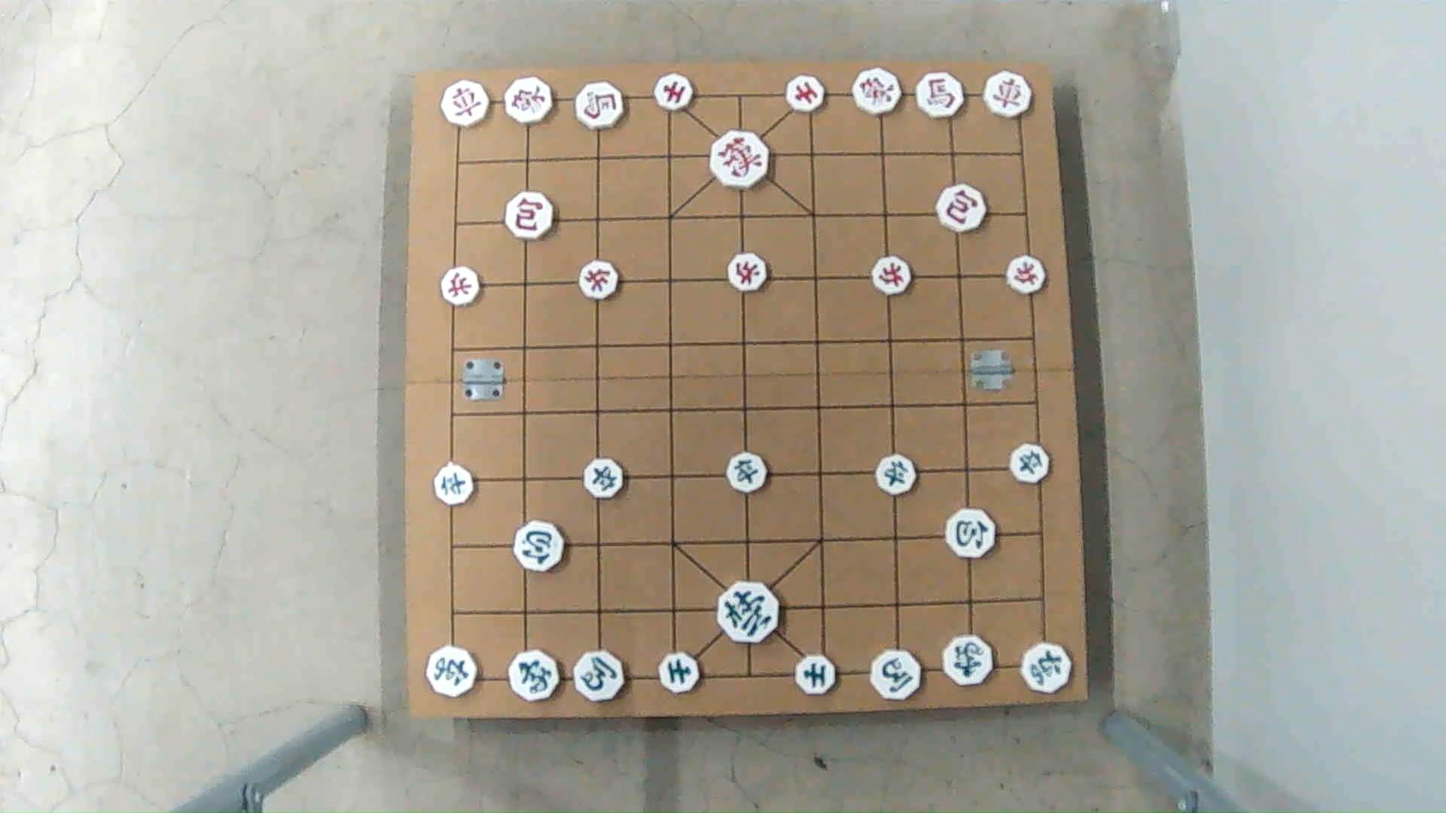cha_green: (1020, 645, 1075, 693), (428, 645, 477, 694)
cha_red: (986, 73, 1039, 117), (443, 82, 495, 124)
jol_green: (432, 467, 478, 504), (581, 460, 628, 496), (723, 455, 769, 491), (874, 457, 920, 492), (1008, 446, 1051, 483)
jol_red: (579, 263, 624, 299), (870, 259, 916, 294), (725, 256, 769, 291), (444, 268, 487, 303), (1002, 259, 1045, 294)
ma_green: (575, 653, 630, 700), (871, 653, 926, 699)
ma_red: (573, 84, 626, 128), (917, 75, 971, 118)
po_green: (512, 527, 566, 571), (945, 510, 997, 555)
po_red: (938, 189, 993, 232), (503, 196, 556, 239)
sa_green: (793, 657, 837, 696), (656, 655, 698, 693)
sa_red: (784, 78, 827, 112), (652, 75, 694, 109)
sang_green: (509, 650, 562, 705), (942, 639, 997, 687)
sang_red: (500, 79, 554, 122), (853, 72, 905, 115)
wang_green: (716, 585, 781, 642)
wang_red: (709, 133, 770, 186)
